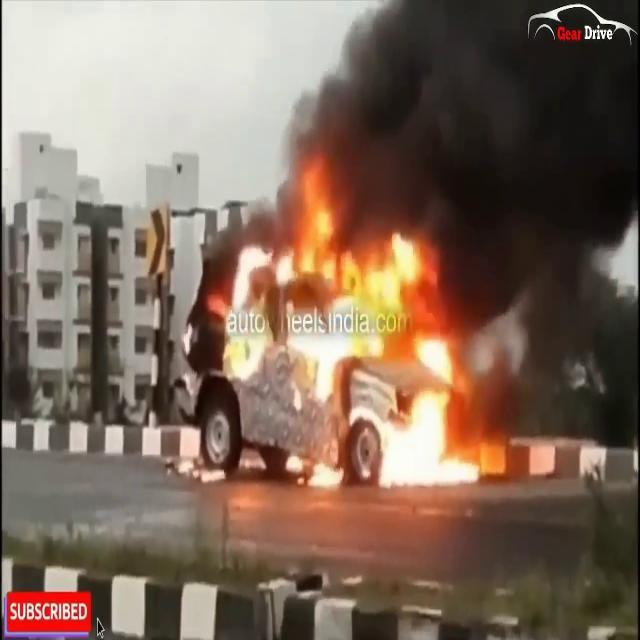Fire: (222, 166, 490, 491)
Smoke: (289, 0, 638, 308)
